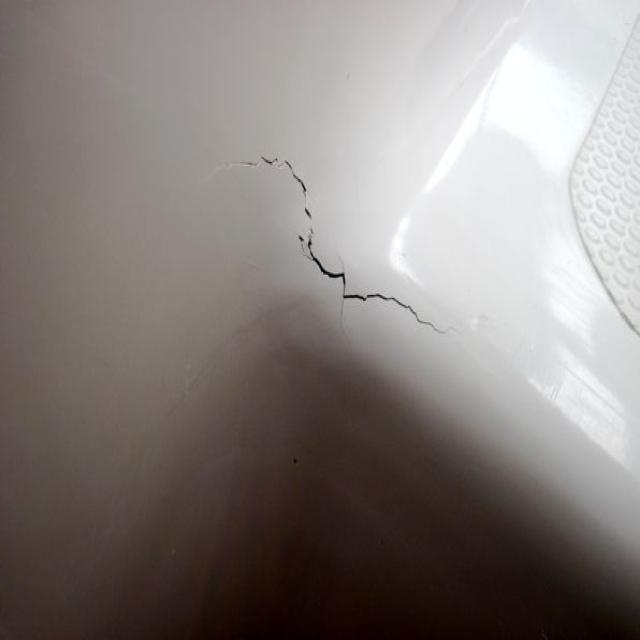Rupture: (193, 152, 477, 340)
